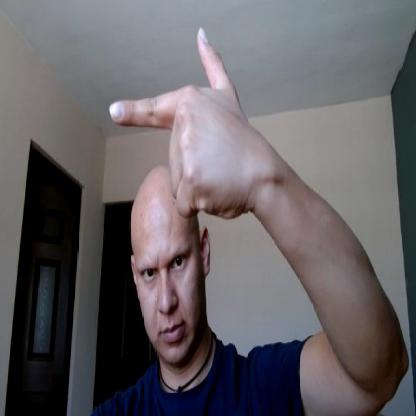G: (108, 26, 255, 220)
